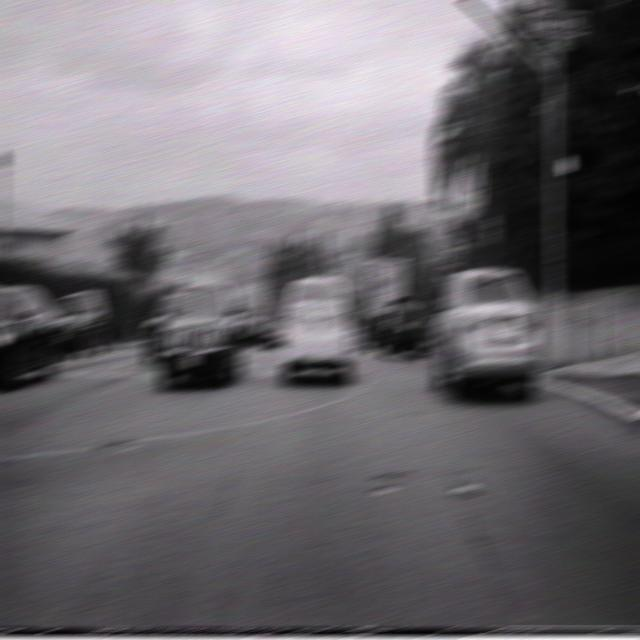speedLimit35: (439, 230, 461, 268)
